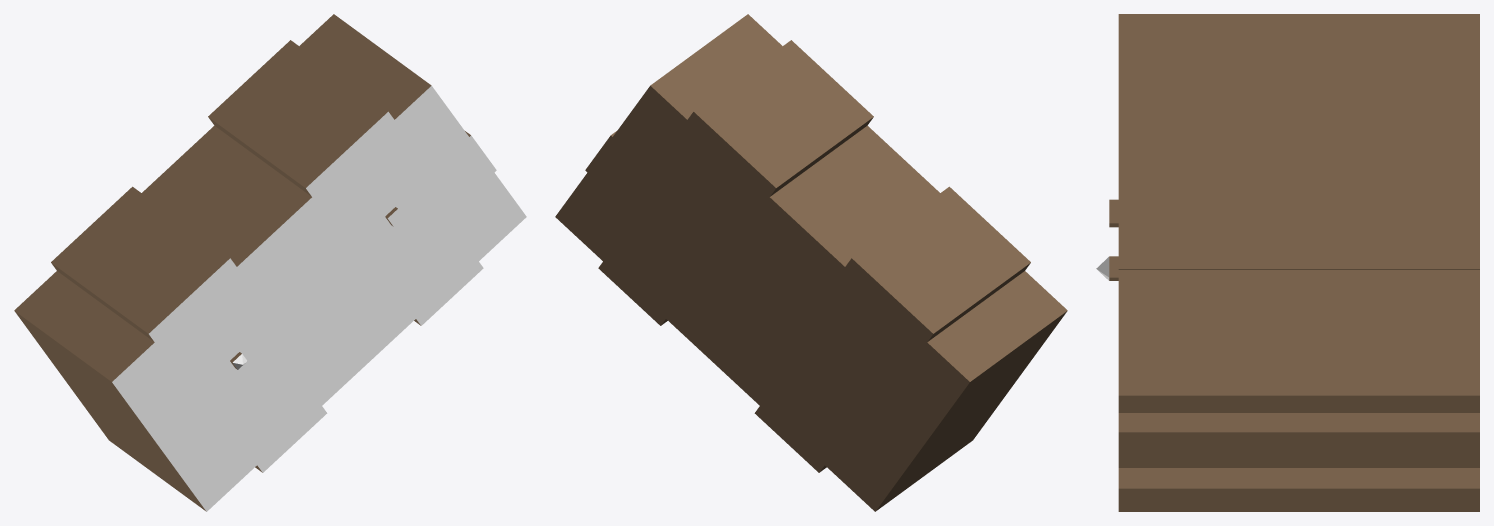
3 views of the same model, side by side, from view 1: azimuth 30°, elevation 25°; view 2: azimuth 150°, elevation 25°; view 3: azimuth 270°, elevation 25° (orthographic). The views are drawn at different scales.
Parts seen in each view (by area): view 1: City_PC-08605; view 2: City_PC-08605; view 3: City_PC-08605.
Boxes of the visible parts, box(x1,y1,x2,y2) form: City_PC-08605: box(14, 14, 526, 511); City_PC-08605: box(555, 14, 1067, 511); City_PC-08605: box(1096, 14, 1479, 511).
Bounding box in the file's own units: 3358 × 2873 × 1456.
